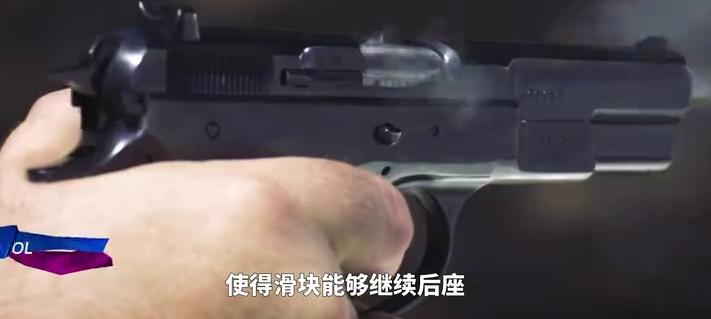gun: (1, 1, 711, 319)
